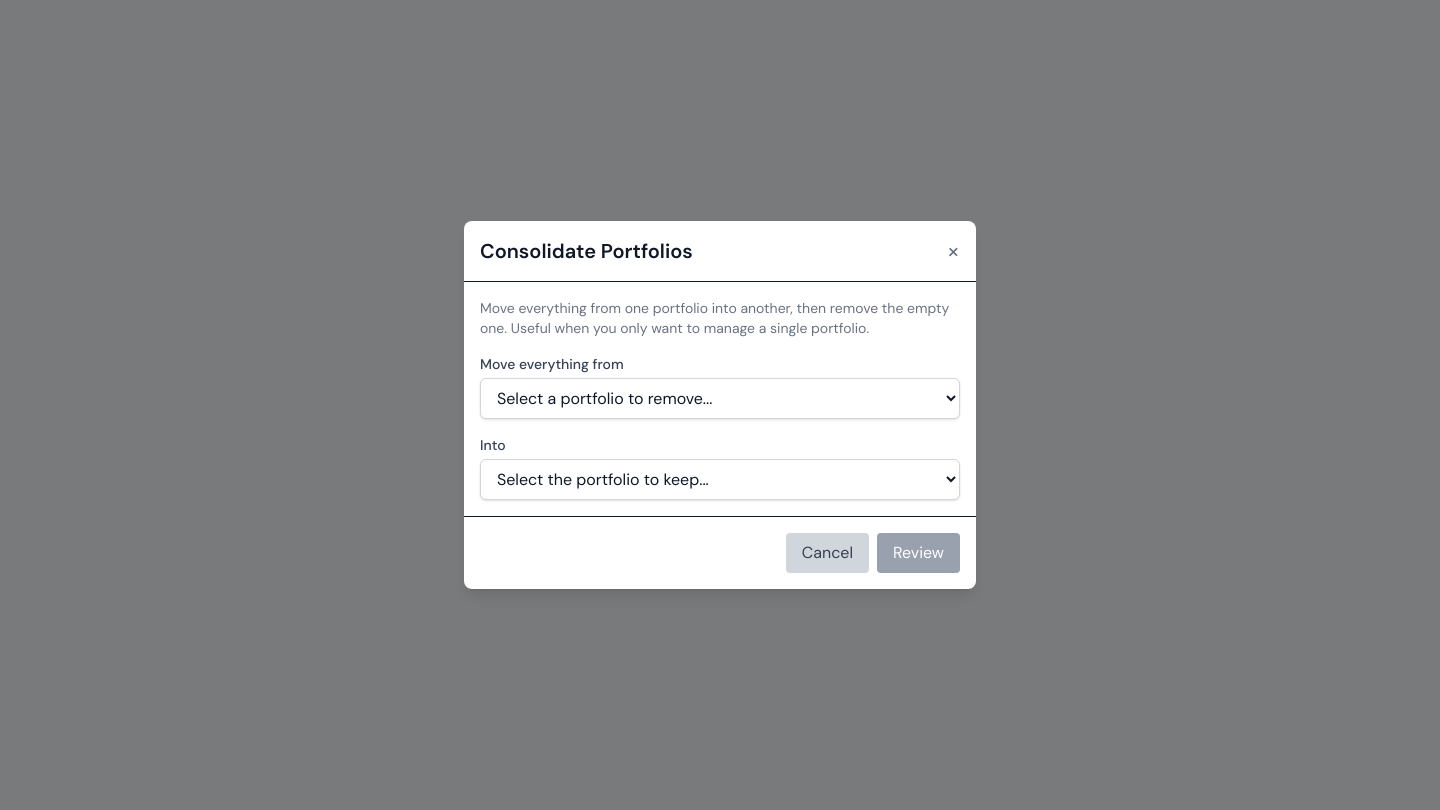
Scenario: ConsolidatePortfoliosDialog › shows a confirmation naming source and target before merging
Select "MAIN — Main" in the dropdown labelled "Move everything from" at (720, 398), box [480,378,960,419]
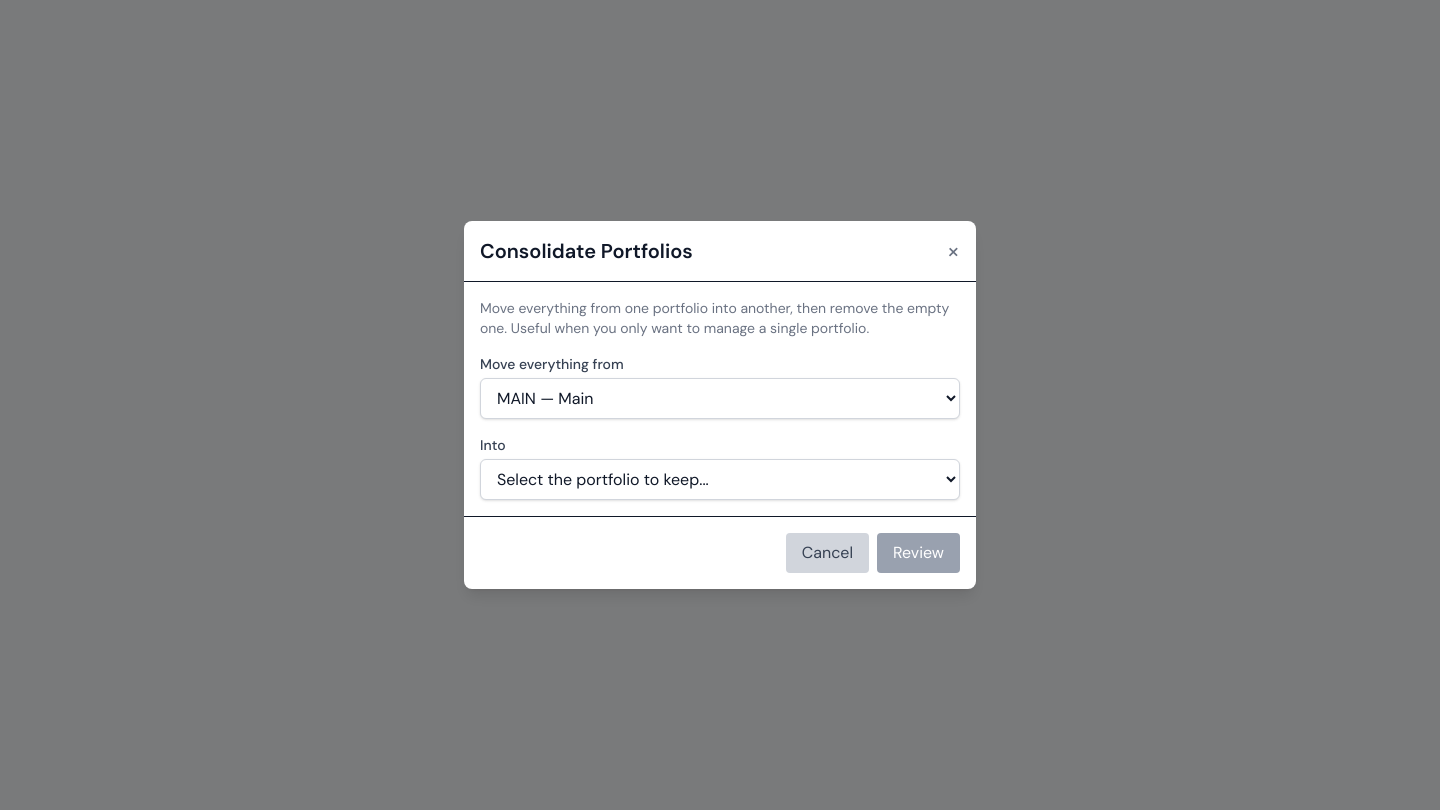
Select "SIDE — Side" in the dropdown labelled "Into" at (720, 480), box [480,459,960,500]
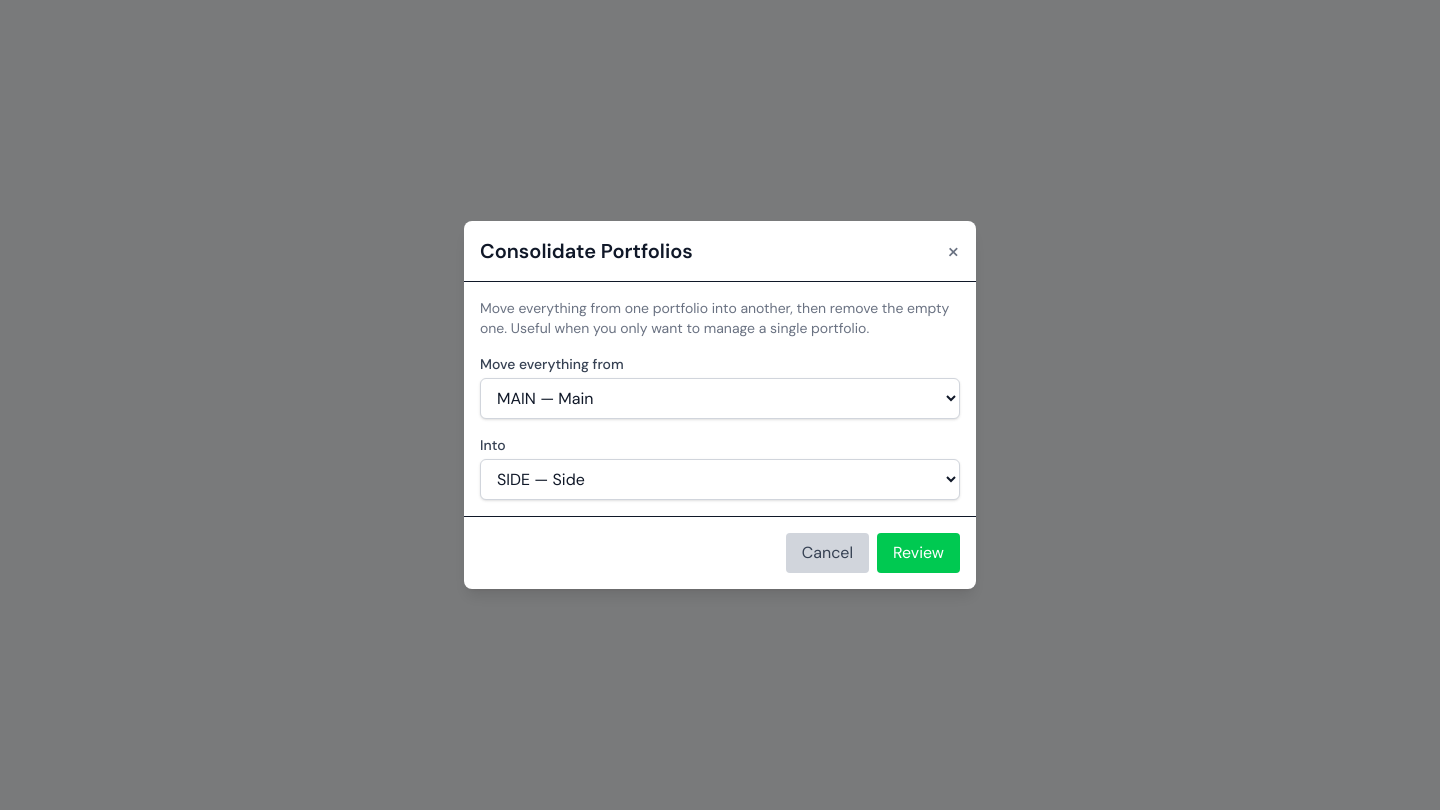
Click the button "Review" at (918, 553), box [877,533,960,573]
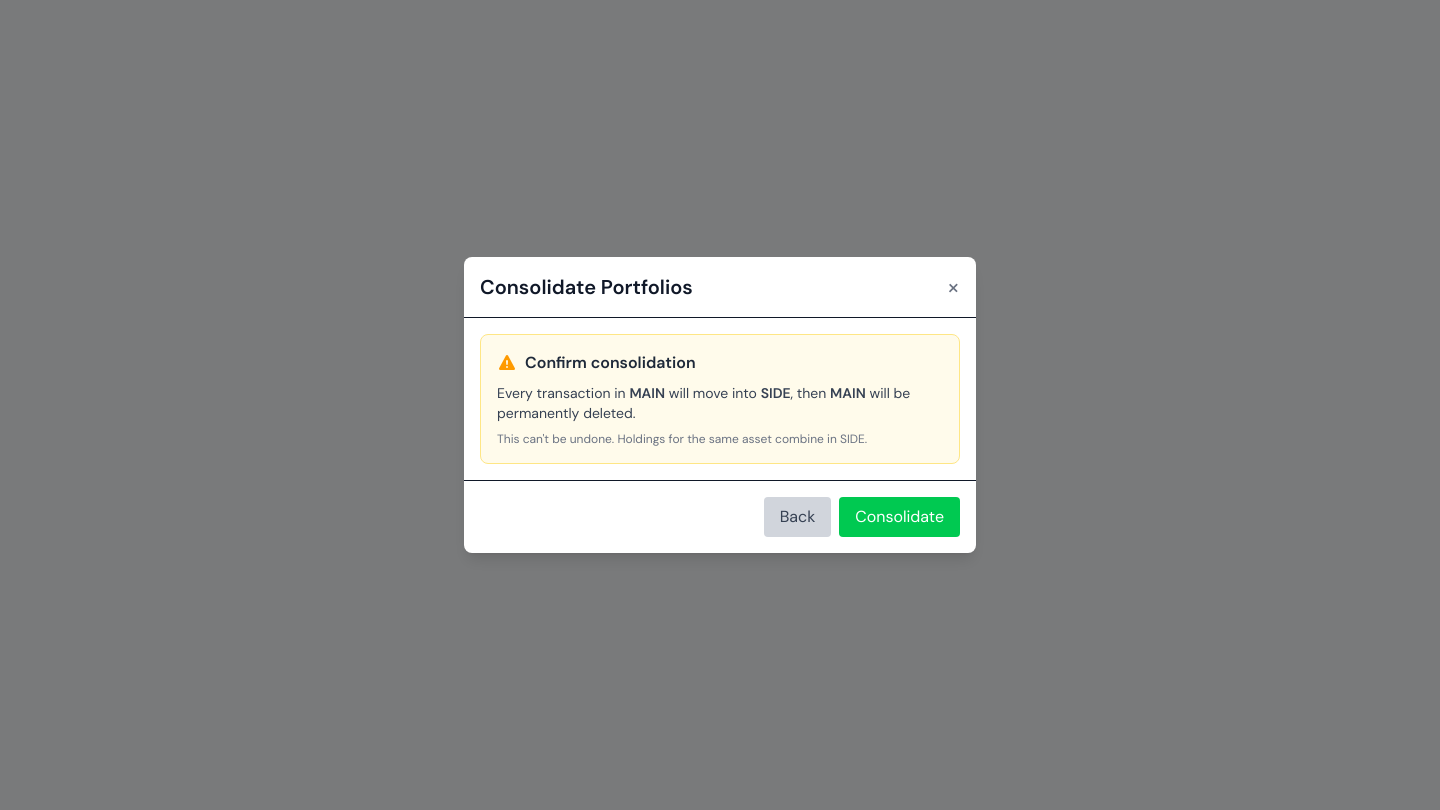
Check: the text "will be permanently deleted" is shown, box [497,384,910,422]
Check: the 1st text "MAIN" is shown, box [629,384,665,402]
Check: the text "SIDE" is shown, box [761,384,790,402]
